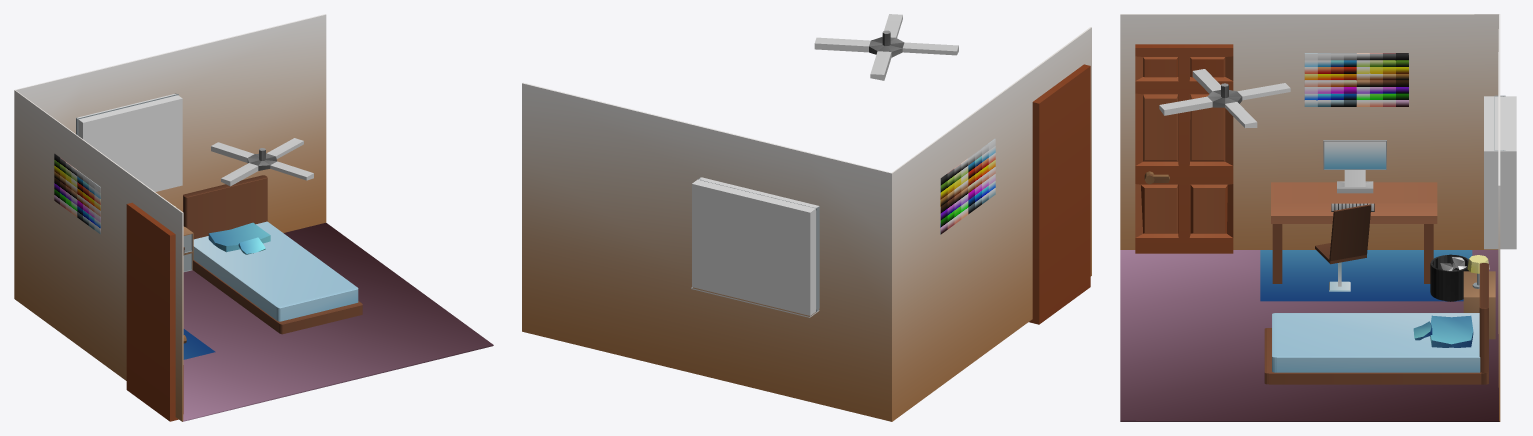
The picture shows the model from 3 angles, left to right: view 1: azimuth 30°, elevation 25°; view 2: azimuth 150°, elevation 25°; view 3: azimuth 270°, elevation 25°; orthographic projection. The views are drawn at different scales.
Visible parts, largest first — view 1: room, Door, mattress, CTRL_Hole.001, Bed, Portrait, Fan, Pillow, FootMate; view 2: room, CTRL_Hole.001, Door, Portrait, Fan; view 3: room, Door, mattress, FootMate, tabel, Portrait, CTRL_Hole.001, Bed, Chair, Fan, Monitor Screen, Dustbin (+3 smaller).
Part boxes in pixels (x1,y1,x2,y2): room: (14, 14, 493, 421); Door: (126, 202, 183, 421); mattress: (193, 221, 358, 321); CTRL_Hole.001: (77, 94, 182, 191); Bed: (183, 175, 362, 334); Portrait: (54, 153, 100, 234); Fan: (211, 138, 313, 186); Pillow: (208, 222, 270, 252); FootMate: (183, 329, 215, 359); room: (522, 27, 1091, 421); CTRL_Hole.001: (692, 177, 818, 315); Door: (1029, 64, 1090, 324); Portrait: (940, 138, 995, 234); Fan: (814, 14, 958, 80); room: (1120, 14, 1500, 421); Door: (1135, 44, 1233, 253); mattress: (1272, 313, 1480, 372); FootMate: (1260, 250, 1472, 301); tabel: (1271, 182, 1437, 283); Portrait: (1304, 53, 1408, 106); CTRL_Hole.001: (1484, 96, 1516, 249); Bed: (1264, 263, 1488, 384); Chair: (1315, 204, 1371, 291); Fan: (1159, 69, 1290, 128); Monitor Screen: (1324, 141, 1385, 169); Dustbin: (1430, 254, 1468, 301).
Size of what is drawn, in the model's own units: 3.81 by 2.46 by 3.67.
Materials: 1 (1 with a texture image).
